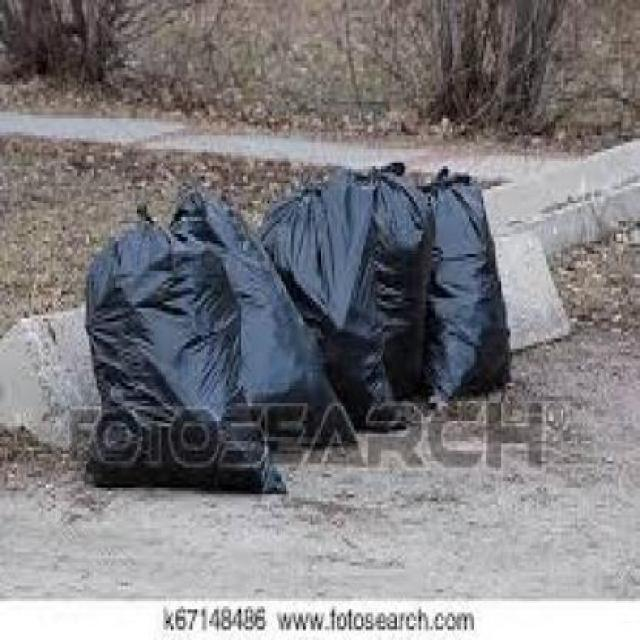garbage: (77, 160, 517, 492)
